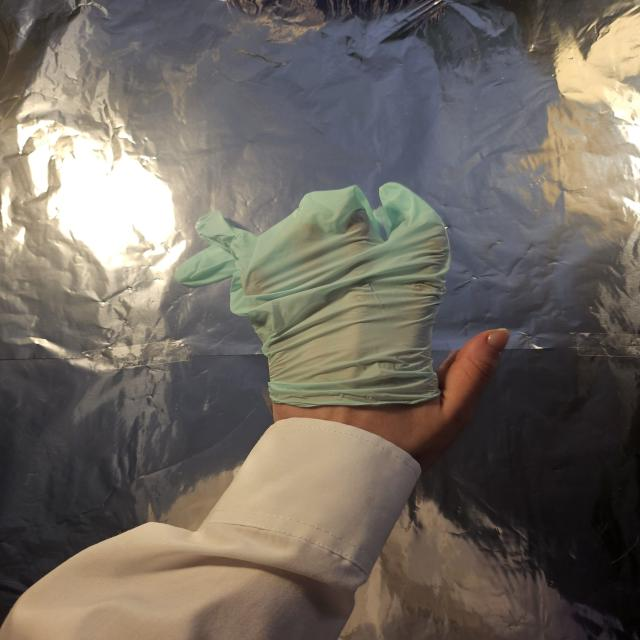glove_partial: (172, 180, 514, 452)
